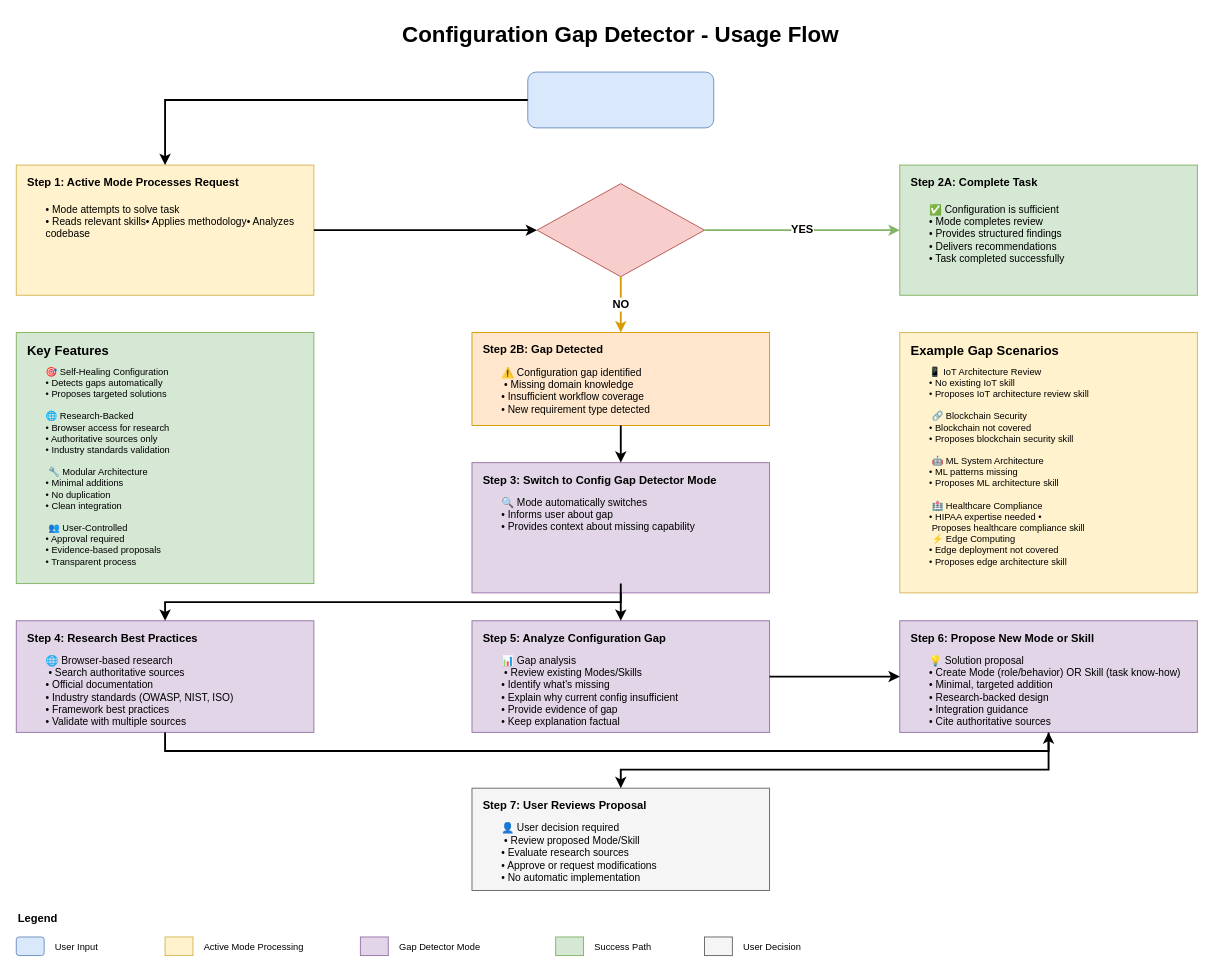
Image size: 1214x972. Some labels were removed from this diagram. Each missing label, with the centre of its shape:
"Configuration Sufficient?" goes at (620,230).
"User Request" goes at (620,99).
